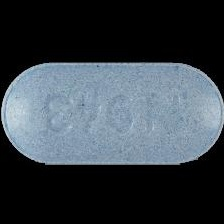10544-102: (0, 0, 224, 224)
